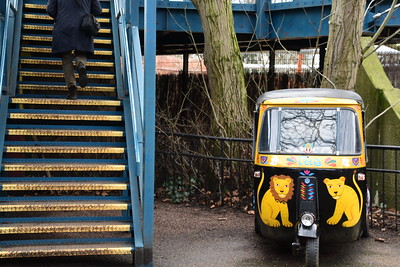threewheel: (250, 87, 370, 267)
